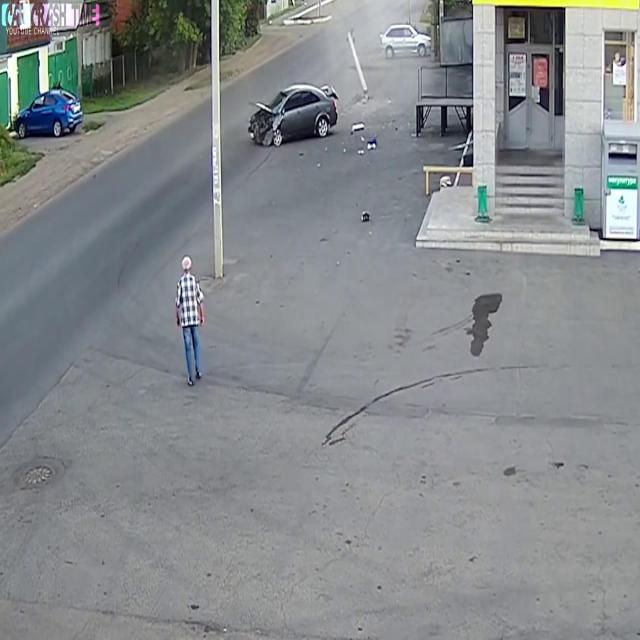accident: (242, 74, 381, 178)
